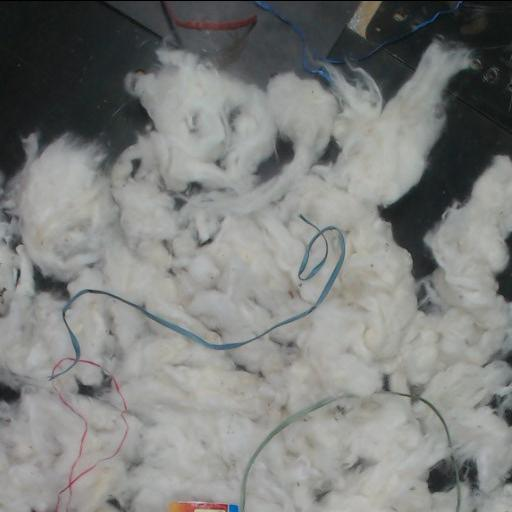conveyor belt: (0, 1, 168, 176), (167, 1, 301, 85), (271, 1, 359, 54)
cotton: (0, 40, 511, 512), (248, 399, 449, 512)
thread: (49, 217, 343, 467), (239, 394, 354, 512), (352, 1, 463, 60), (374, 389, 450, 440), (57, 436, 90, 512)
